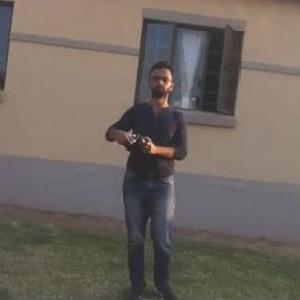follow: (102, 55, 194, 299)
